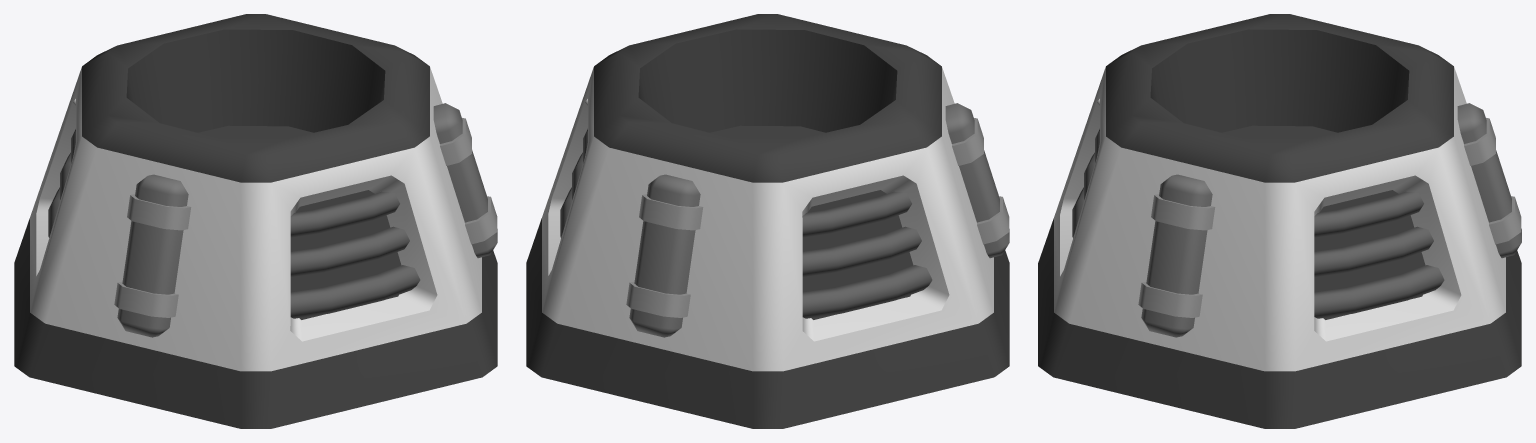
The model's file is turret_003.fbx.
The picture shows the model from 3 angles, left to right: view 1: azimuth 30°, elevation 25°; view 2: azimuth 150°, elevation 25°; view 3: azimuth 270°, elevation 25°; orthographic projection.
Parts seen in each view (by area): view 1: turret_003; view 2: turret_003; view 3: turret_003.
Boxes of the visible parts, box(x1,y1,x2,y2) form: turret_003: box(14, 14, 497, 428); turret_003: box(526, 14, 1009, 428); turret_003: box(1038, 14, 1521, 428).
Size of the model in its own units: 488 by 437 by 230.
